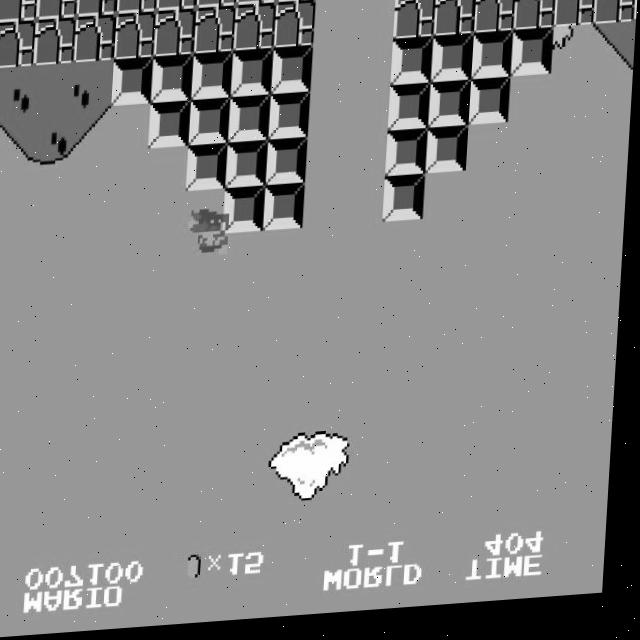11- little_mario: (190, 211, 235, 263)
17- undestructible_block: (114, 13, 157, 62), (234, 6, 277, 55), (34, 18, 77, 66), (74, 16, 117, 64), (154, 11, 197, 59), (194, 9, 237, 57), (274, 4, 317, 52), (394, 0, 437, 45), (434, 0, 477, 43), (474, 0, 517, 41), (0, 20, 36, 68), (514, 0, 557, 38), (554, 0, 597, 36), (594, 0, 637, 34), (36, 0, 78, 21), (0, 0, 37, 23), (76, 0, 118, 19), (116, 0, 158, 16), (156, 0, 198, 14), (196, 0, 238, 12), (236, 0, 278, 9), (276, 0, 318, 7), (634, 0, 639, 32)
9- hard_block: (227, 144, 271, 192), (112, 59, 155, 108), (150, 102, 193, 151), (190, 100, 233, 149), (225, 189, 268, 238), (232, 52, 275, 101), (270, 95, 313, 144), (390, 88, 433, 137), (430, 86, 473, 135), (472, 38, 515, 87), (187, 147, 231, 194), (267, 142, 311, 189), (387, 135, 431, 182), (427, 133, 471, 180), (152, 57, 195, 105), (192, 55, 235, 103), (230, 98, 273, 146), (265, 187, 308, 235), (272, 50, 315, 98), (385, 180, 428, 228), (392, 43, 435, 91), (432, 41, 475, 89), (470, 84, 513, 132), (512, 36, 555, 84)
